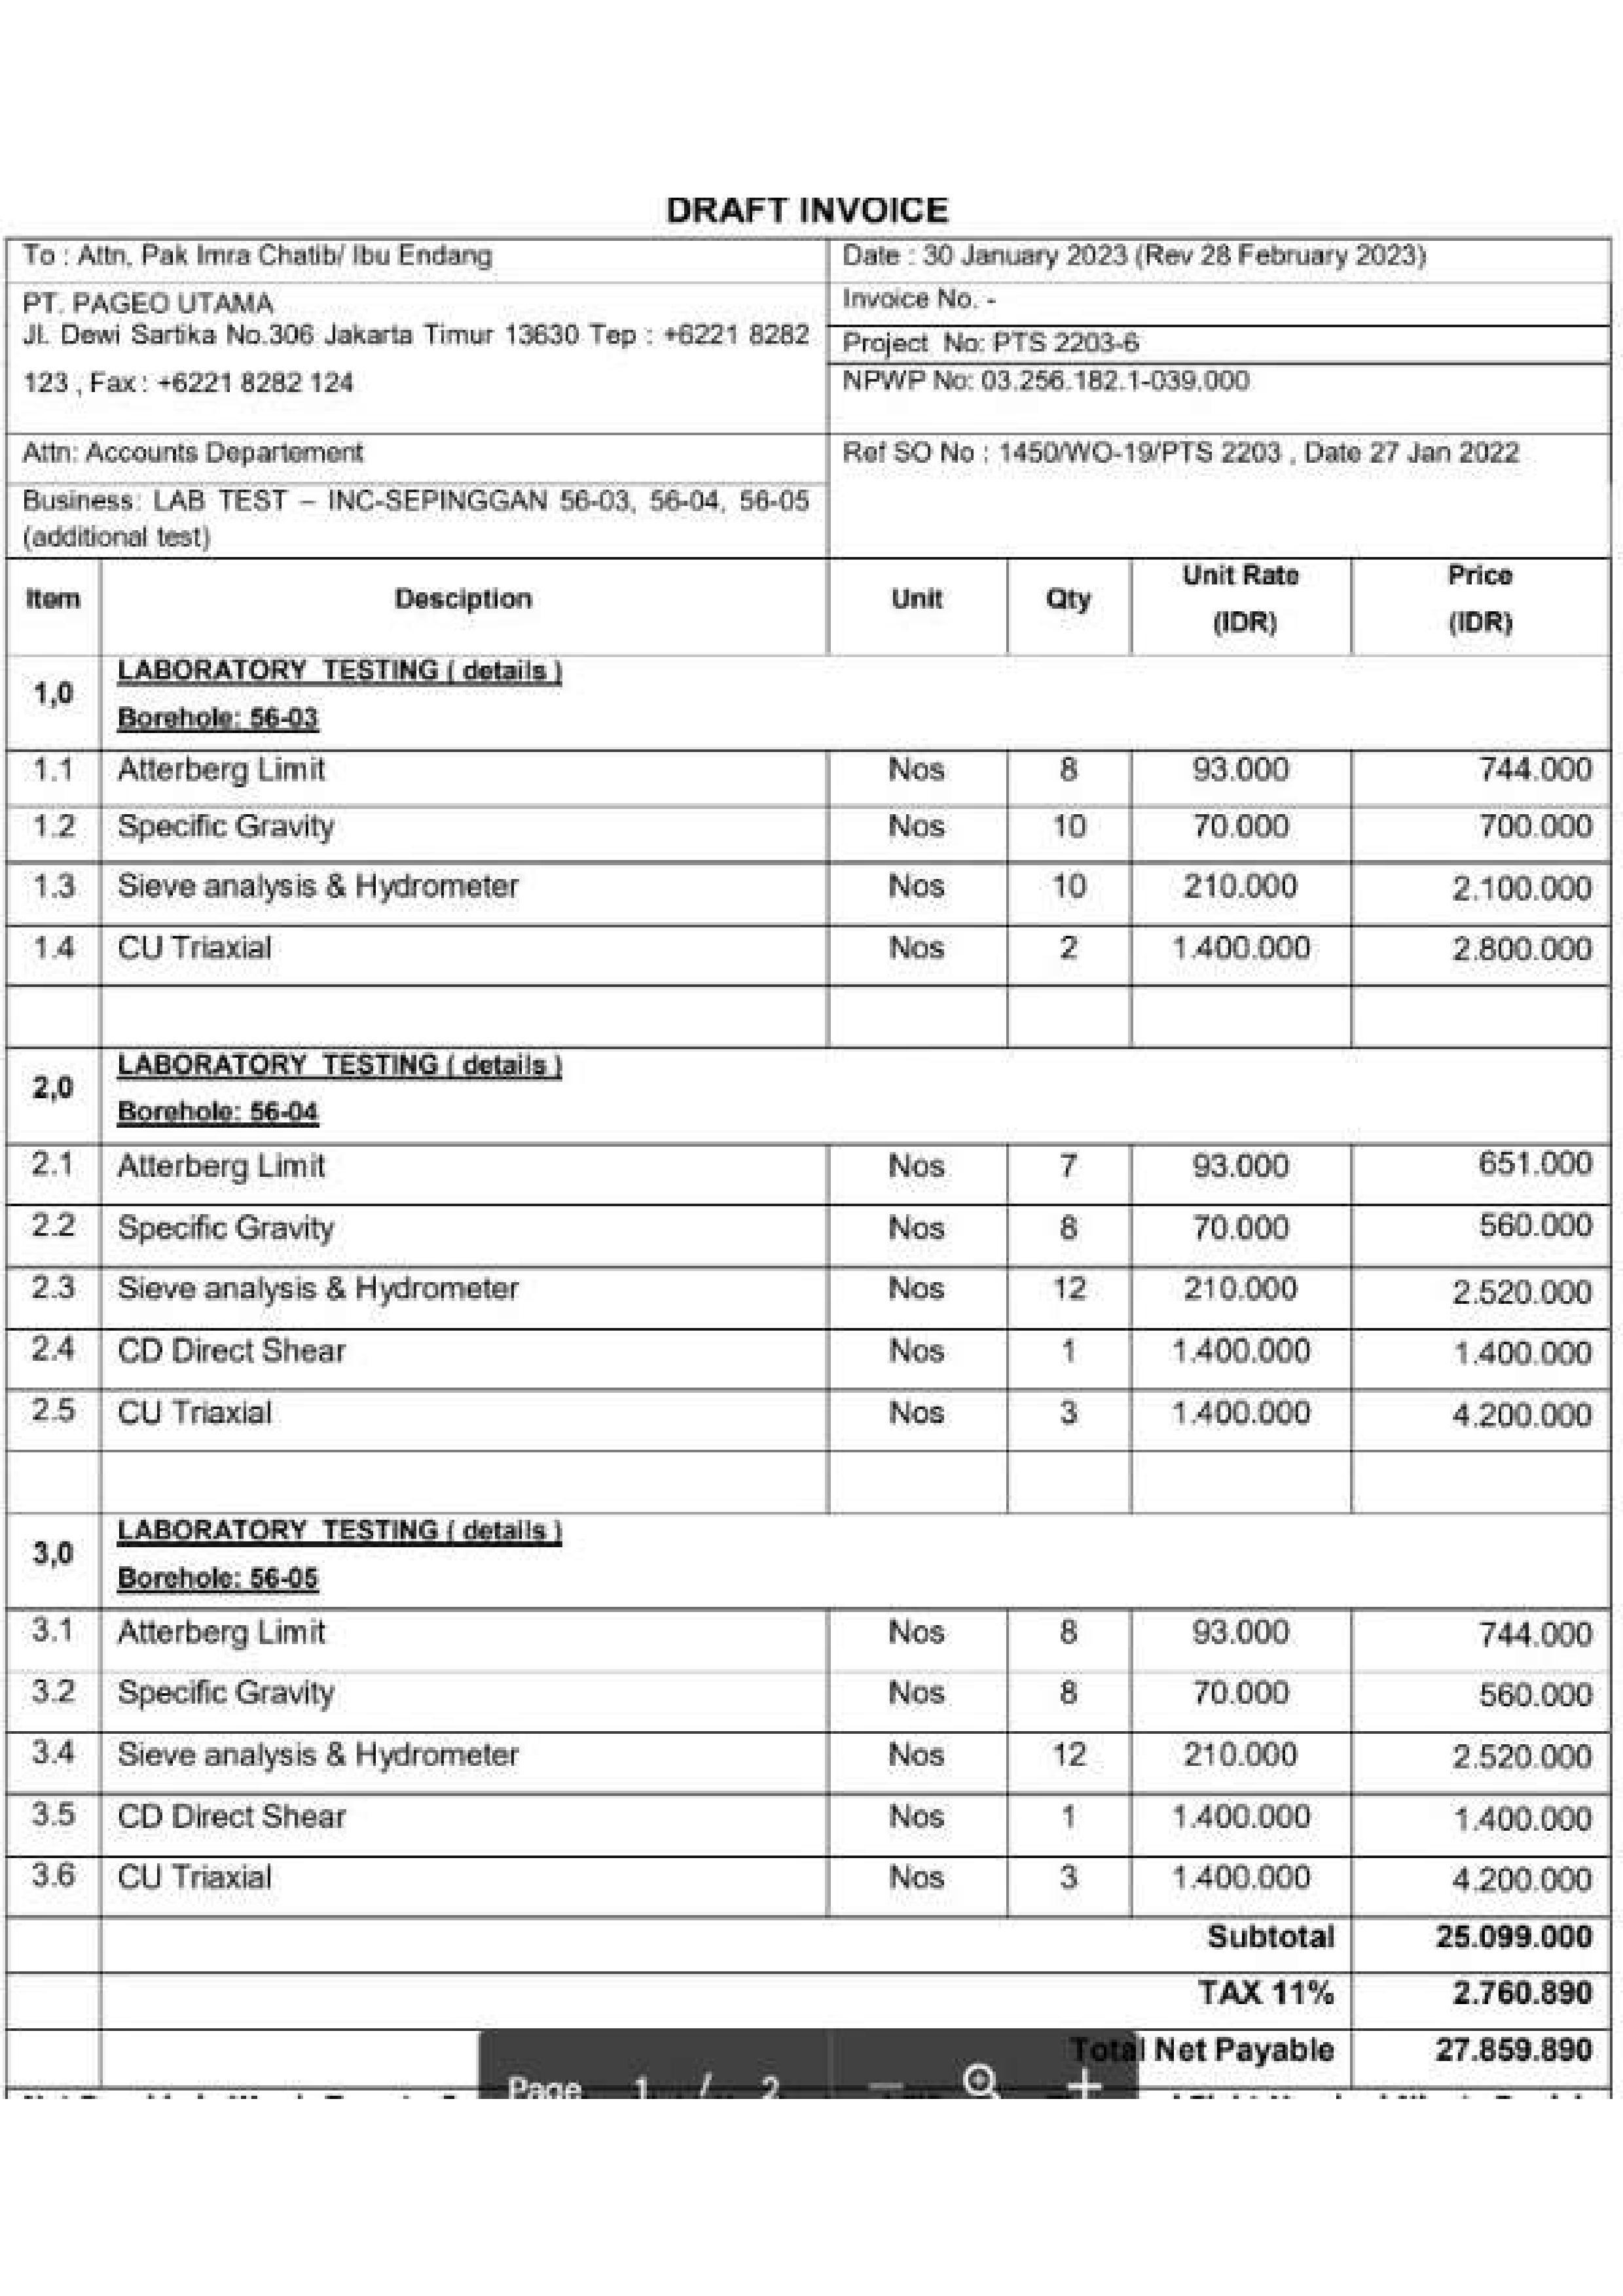InvoiceDate: (917, 235, 1131, 272)
TotalAmount: (1425, 2029, 1602, 2073)
